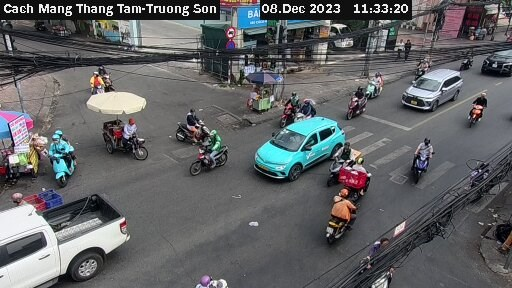car: (1, 176, 136, 287), (249, 114, 351, 178), (399, 65, 467, 115), (484, 43, 512, 80)
motorbike: (313, 185, 362, 238), (338, 159, 385, 203), (45, 132, 83, 182), (189, 134, 233, 176), (401, 144, 443, 186), (176, 107, 220, 146), (118, 122, 159, 162), (318, 147, 359, 180), (460, 94, 496, 131), (339, 88, 373, 123), (75, 71, 115, 99), (361, 67, 392, 99), (274, 96, 304, 128), (94, 65, 128, 89), (405, 59, 440, 81), (456, 48, 481, 74)
